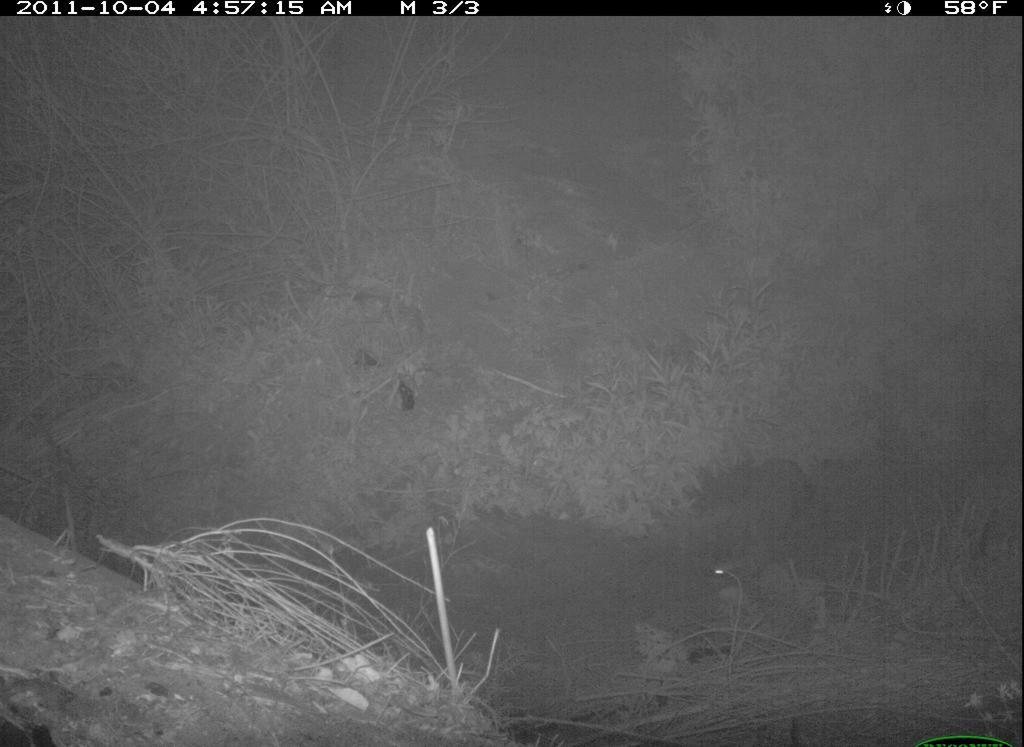raccoon: (687, 454, 827, 602)
